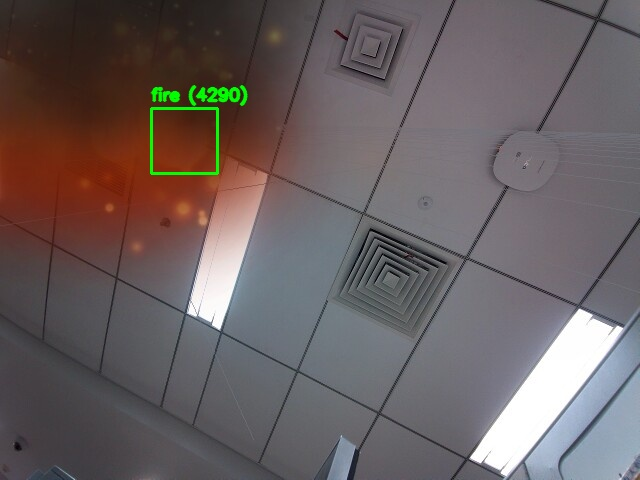fire: (151, 108, 217, 173)
